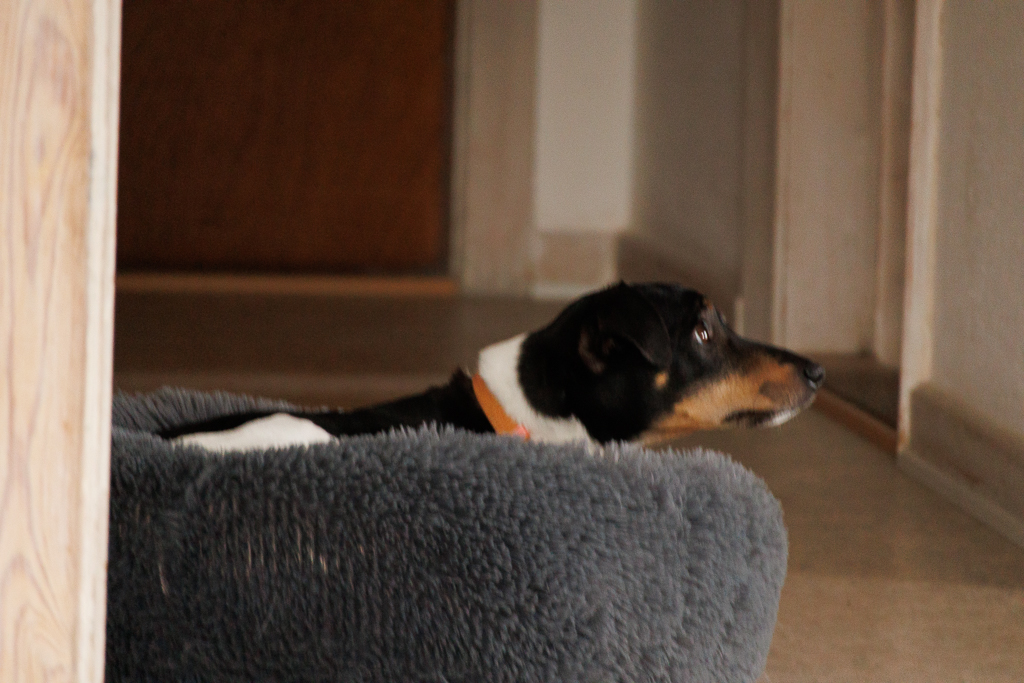Dog: (142, 266, 835, 479)
